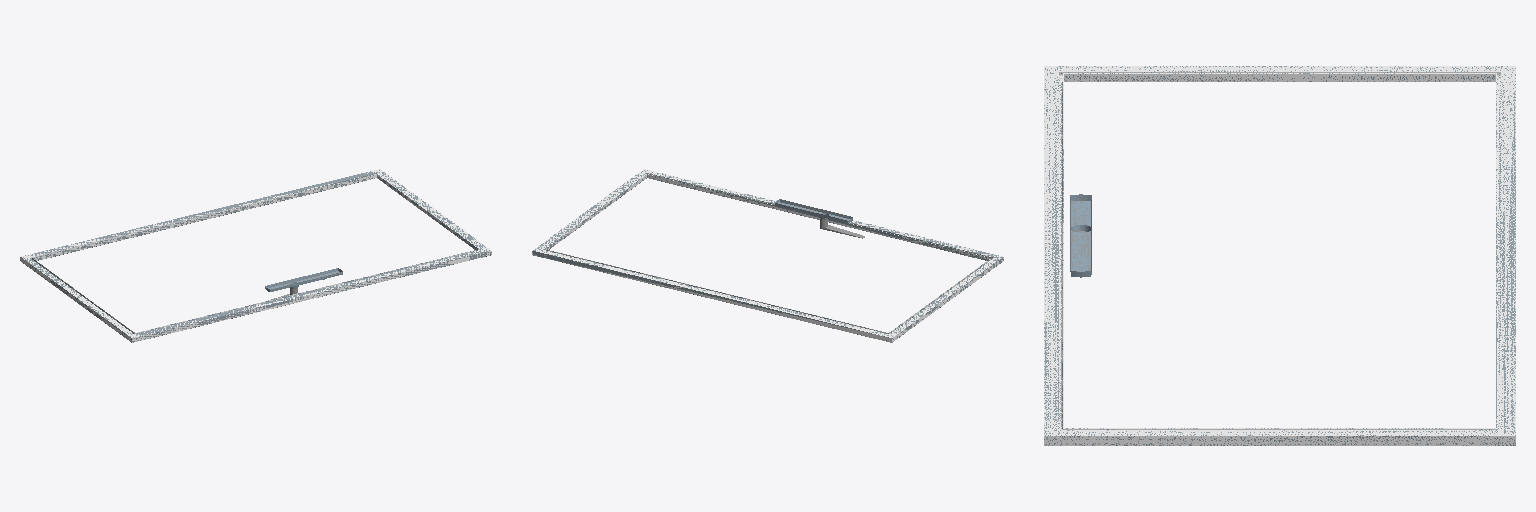
URDF robot description (window):
<?xml version="1.0" ?>
<robot name="window">
	<link name="base"/>
	<link name="link_0">
		<visual name="out-frame">
			<origin xyz="0 0 0"/>
			<geometry>
				<mesh filename="texture_dae/untitled.dae" scale="0.5 0.5 0.5"/>
			</geometry>
		</visual>
		<collision>
			<origin xyz="0 0 0"/>
			<geometry>
				<mesh filename="texture_dae/untitled.dae" scale="0.5 0.5 0.5"/>
			</geometry>
		</collision>
	</link>
	<joint name="joint_0" type="fixed">
		<origin rpy="1.570796326794897 0 -1.570796326794897" xyz="0 0 0"/>
		<child link="link_0"/>
		<parent link="base"/>
	</joint>
	<link name="link_1">
		<visual name="surf-board">
			<origin xyz="0.30546158315543975 -0.5833843402065071 0"/>
			<geometry>
				<mesh filename="texture_dae/untitled1.dae" scale="0.5 0.5 0.5"/>
			</geometry>
		</visual>
		<collision>
			<origin xyz="0.30546158315543975 -0.5833843402065071 0"/>
			<geometry>
				<mesh filename="texture_dae/untitled1.dae" scale="0.5 0.5 0.5"/>
			</geometry>
		</collision>
	</link>
	<joint name="joint_1" type="revolute">
		<origin xyz="-0.30546158315543975 0.5833843402065071 0"/>
		<axis xyz="0 -1 0"/>
		<child link="link_1"/>
		<parent link="link_0"/>
		<limit lower="0" upper="1.5079644737231006"/>
	</joint>
	<link name="link_2">
		<visual name="handle">
			<origin xyz="0 0 0"/>
			<geometry>
				<mesh filename="texture_dae/9969536-handle.dae" scale="0.9842519803988127 0.9842519803988127 0.9842519803988127"/>
			</geometry>
		</visual>
		<collision>
			<origin xyz="0 0 0"/>
			<geometry>
				<mesh filename="texture_dae/9969536-handle.dae" scale="0.9842519803988127 0.9842519803988127 0.9842519803988127"/>
			</geometry>
		</collision>
	</link>
	<joint name="joint_2" type="revolute">
		<origin xyz="0 0 0"/>
		<child link="link_2"/>
		<parent link="link_3"/>
		<axis xyz="0 0 1"/>
		<limit lower="0" upper="1.5079644737231006"/>
	</joint>
	<link name="link_3">
		<visual name="lock">
			<origin xyz="0 0 0"/>
			<geometry>
				<mesh filename="texture_dae/9969536-lock.dae" scale="0.9842519803988127 0.9842519803988127 0.9842519803988127"/>
			</geometry>
		</visual>
		<collision>
			<origin xyz="0 0 0"/>
			<geometry>
				<mesh filename="texture_dae/9969536-lock.dae" scale="0.9842519803988127 0.9842519803988127 0.9842519803988127"/>
			</geometry>
		</collision>
	</link>
	<joint name="joint_3" type="fixed">
		<origin xyz="0.57960002006893 -0.5833843402065071 0.028971898873196622"/>
		<child link="link_3"/>
		<parent link="link_1"/>
	</joint>
</robot>

--- What the picture shows (computed from the rendered views, not written in the file) ---
Views: 3 orthographic renders of the robot side by side, from view 1: azimuth 30°, elevation 25°; view 2: azimuth 150°, elevation 25°; view 3: azimuth 270°, elevation 25°.
Robot: window — 5 links, 4 joints (2 revolute, 2 fixed); root link base; default pose: all joints at 0.
Visible links, largest first — view 1: link_0, link_3; view 2: link_0, link_3; view 3: link_0, link_3.
Link boxes in pixels (x1=…): link_0: x1=20, y1=169, x2=491, y2=342; link_3: x1=265, y1=268, x2=342, y2=291; link_0: x1=532, y1=169, x2=1003, y2=342; link_3: x1=775, y1=199, x2=852, y2=222; link_0: x1=1044, y1=66, x2=1515, y2=445; link_3: x1=1070, y1=194, x2=1091, y2=277.
Size in the robot's own frame: 1.21 by 0.6493 by 0.0516 metres.
3 mesh visuals loaded from 4 distinct referenced files (3 Collada DAE); not drawn: 1 (reference not matched to a file when rendering).
